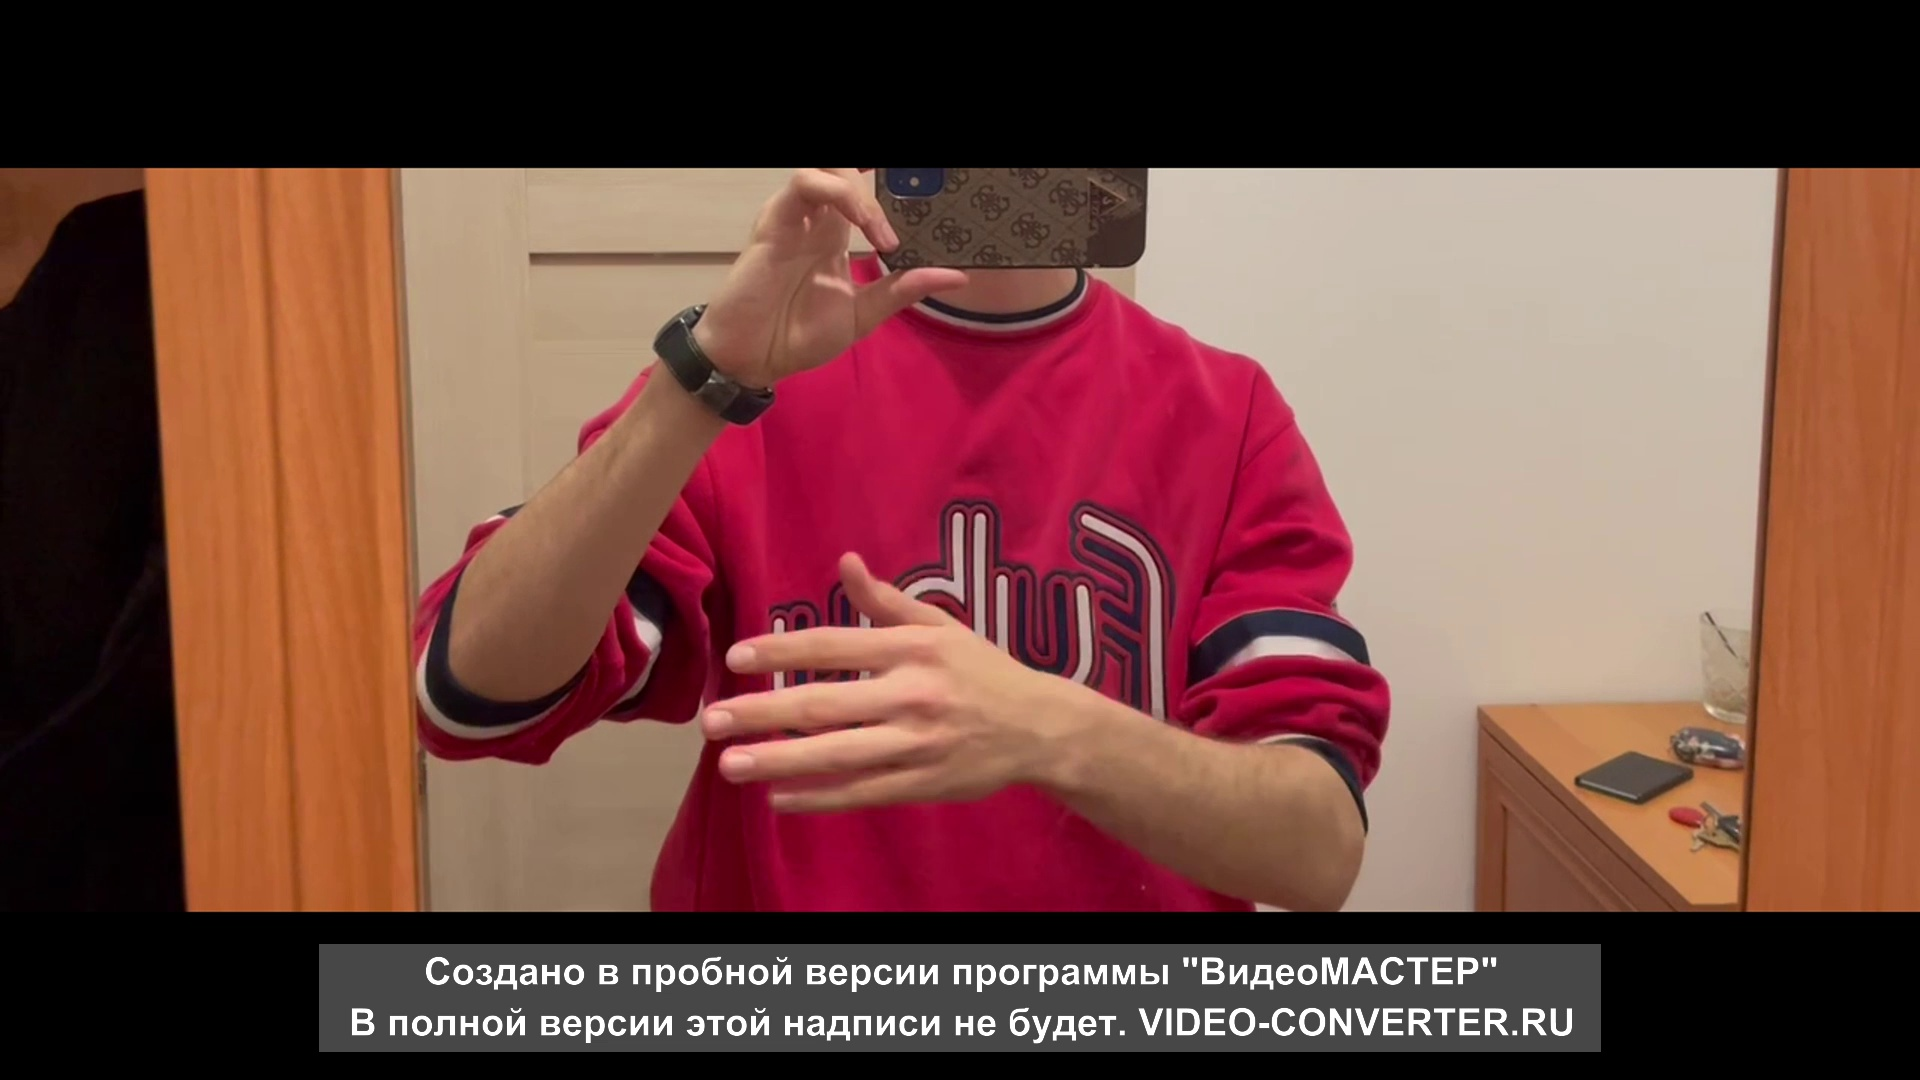Кисть: (700, 547, 1033, 811)
